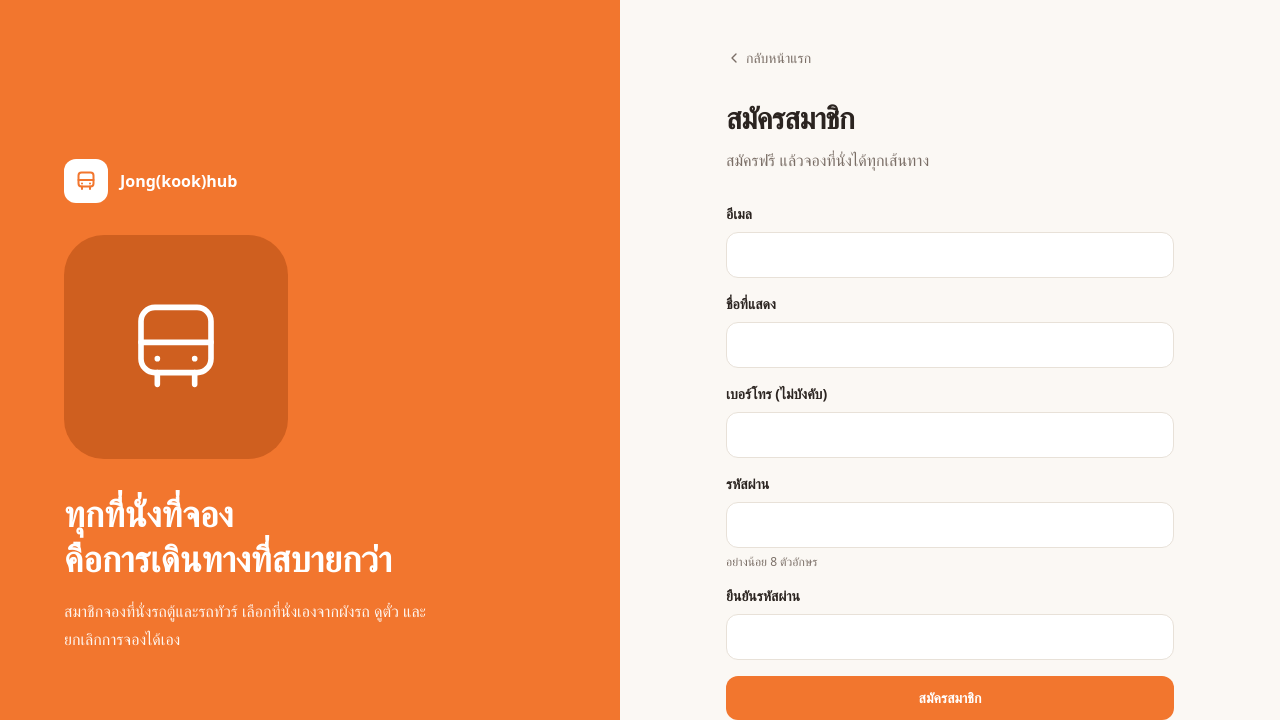
Test case: รหัสผ่านสองช่องไม่ตรงกัน บอกทันทีโดยไม่ส่งไป server
This screenshot has width=1280, height=720.
In the field labelled "อีเมล": (950, 255) [726,232,1174,278], type "nida@example.com"
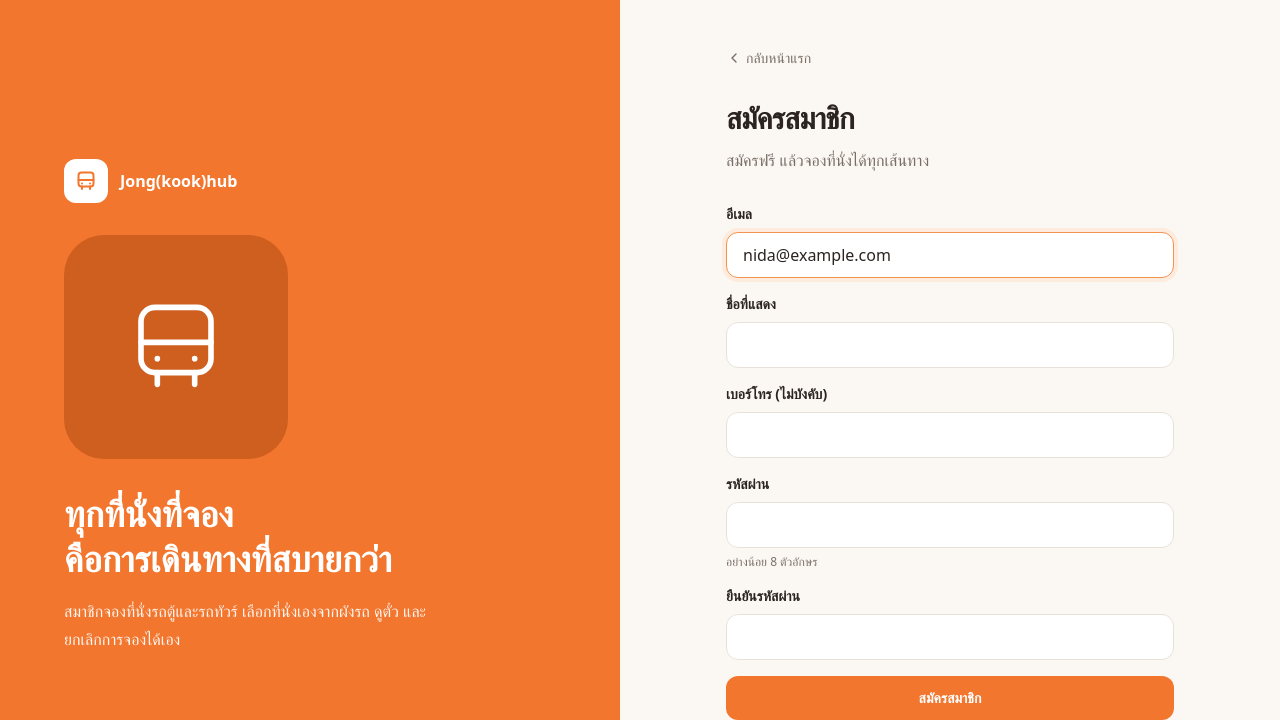
In the field labelled "ชื่อที่แสดง": (950, 345) [726,322,1174,368], type "นิดา"
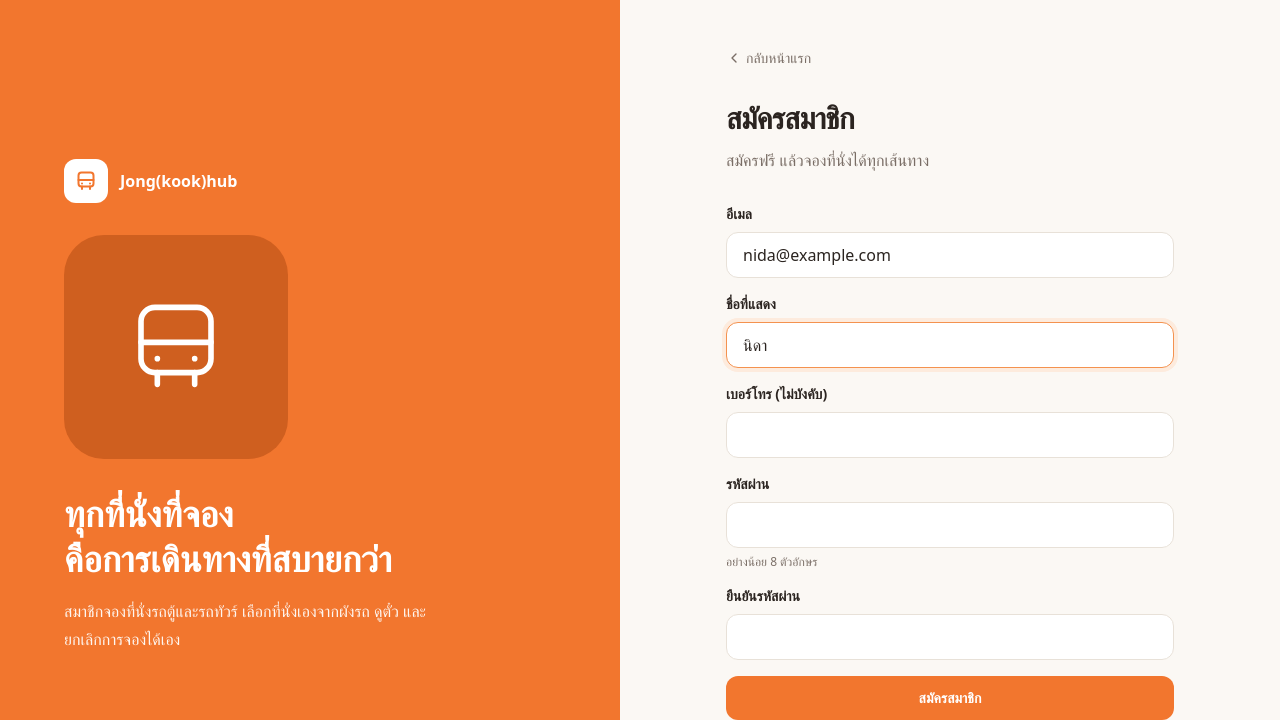
In the password field labelled "รหัสผ่าน อย่างน้อย 8 ตัวอักษร": (950, 525) [726,502,1174,548], type "password123"
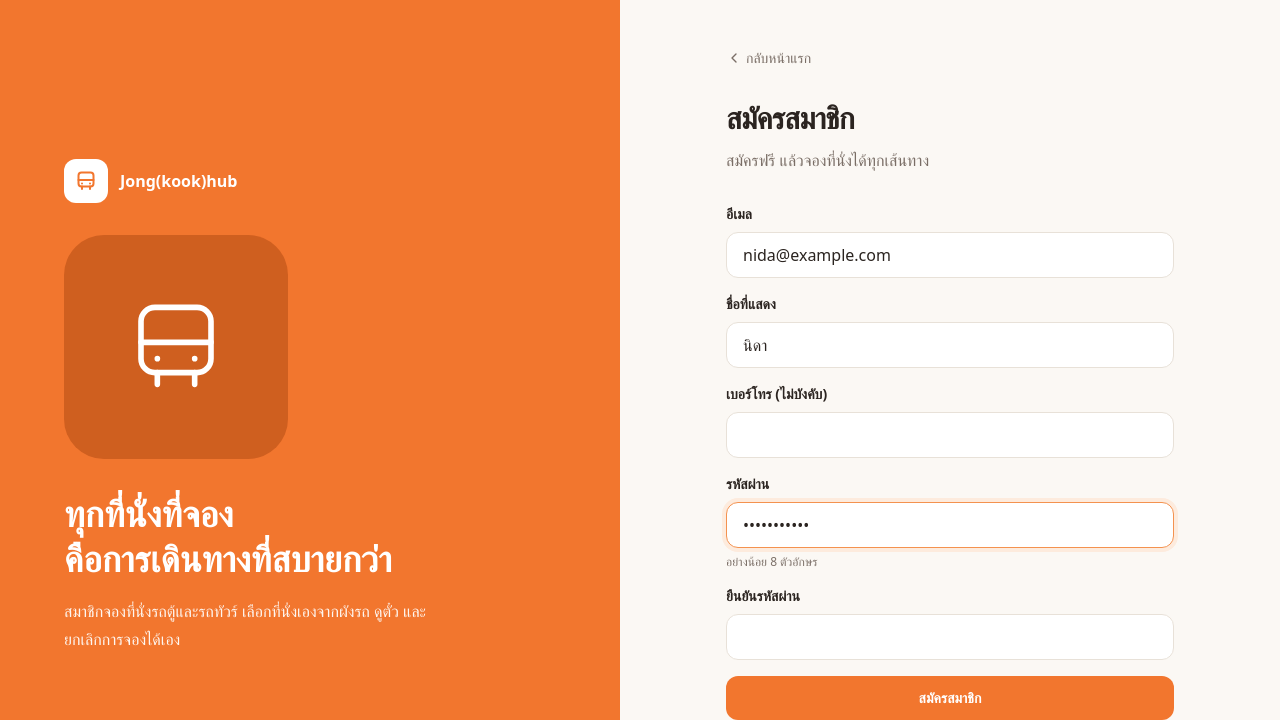
In the password field labelled "ยืนยันรหัสผ่าน": (950, 637) [726,614,1174,660], type "password999"
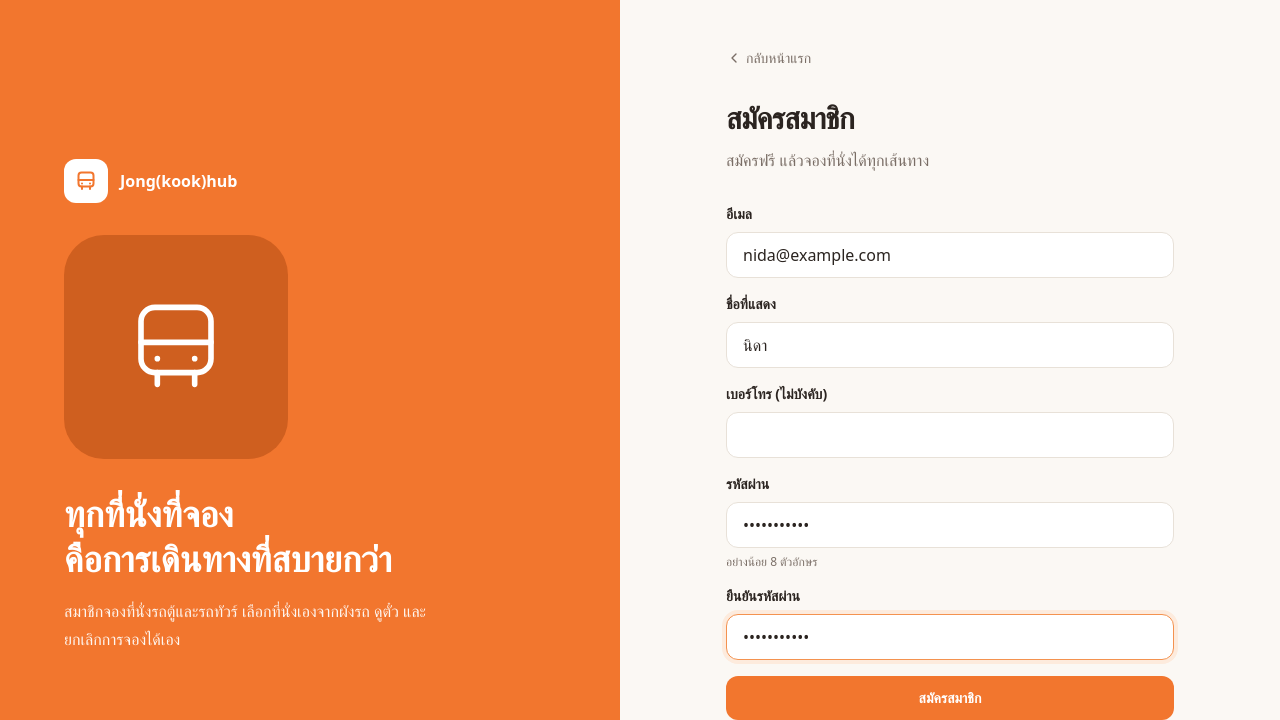
Click the button "สมัครสมาชิก": click(950, 698) [726,676,1174,719]
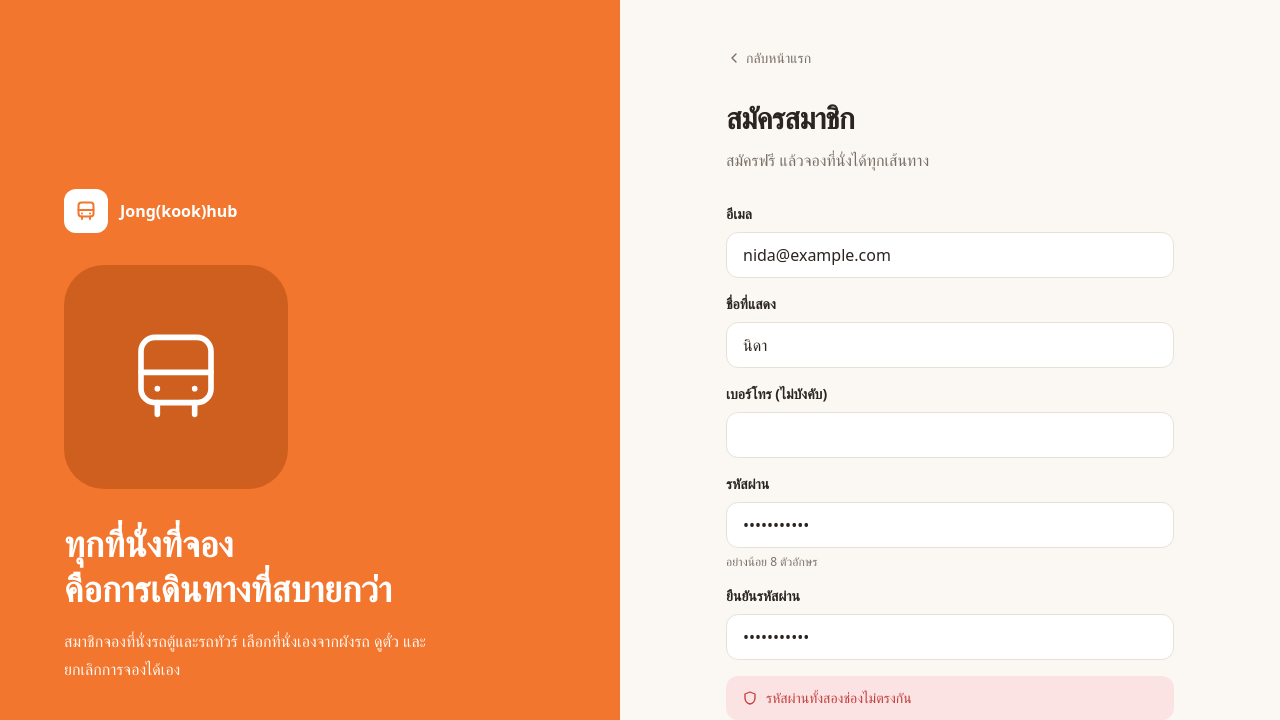
Expected: the message reads "รหัสผ่านทั้งสองช่องไม่ตรงกัน", [766,688,912,707]
